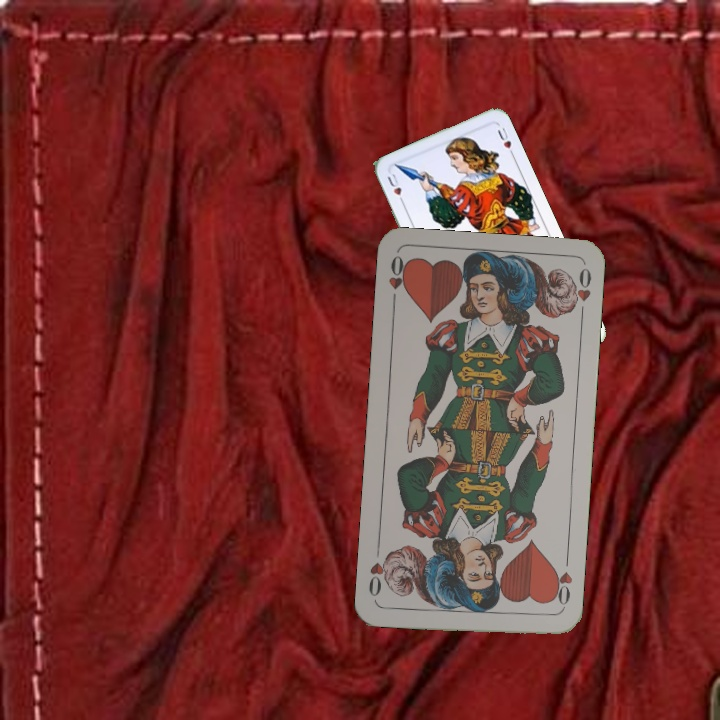HO: (548, 553, 575, 612), (384, 252, 410, 311)
HU: (383, 169, 407, 208)
